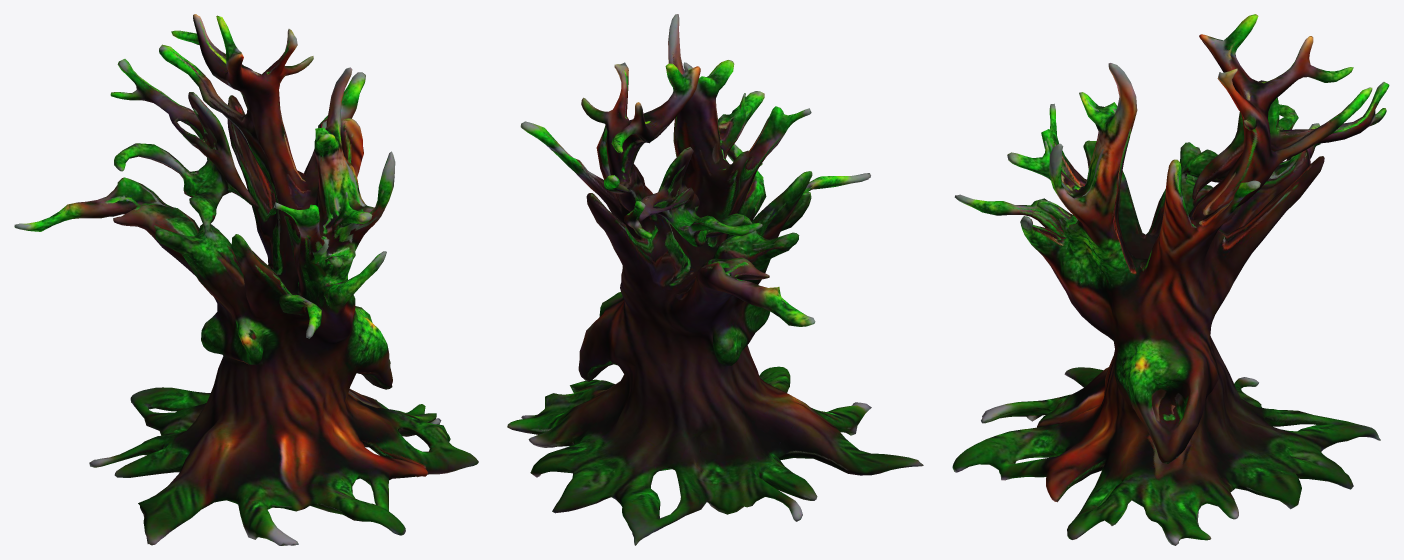
Rendered from b88c3e94bd03_97c36f98fa23_flat_cardboard_horr.glb.
The picture shows the model from 3 angles, left to right: view 1: azimuth 30°, elevation 25°; view 2: azimuth 150°, elevation 25°; view 3: azimuth 270°, elevation 25°; orthographic projection. The views are drawn at different scales.
Parts seen in each view (by area): view 1: mesh; view 2: mesh; view 3: mesh.
Part boxes in pixels (box(x1,y1,x2,y2)): mesh: box(14, 14, 478, 545); mesh: box(507, 14, 923, 545); mesh: box(952, 14, 1389, 545).
Bounding box in the file's own units: 0.8557 × 0.9813 × 0.8728.
1 material, 1 textured.
